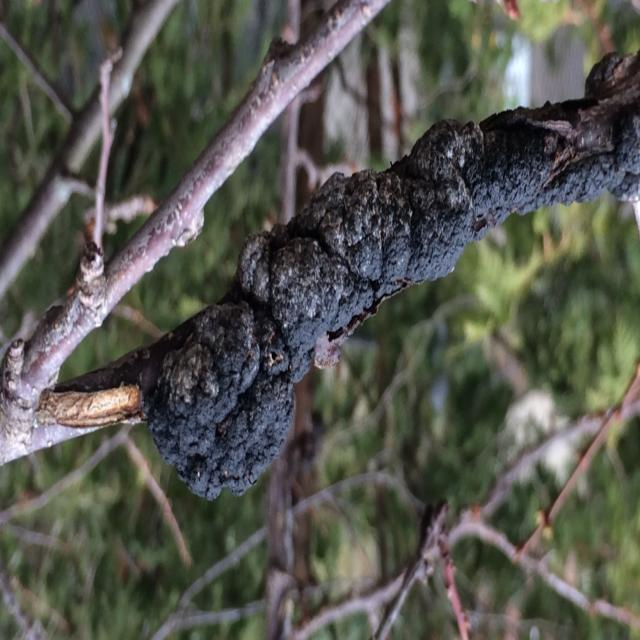Black_knot: (37, 46, 638, 502), (146, 299, 295, 501)
